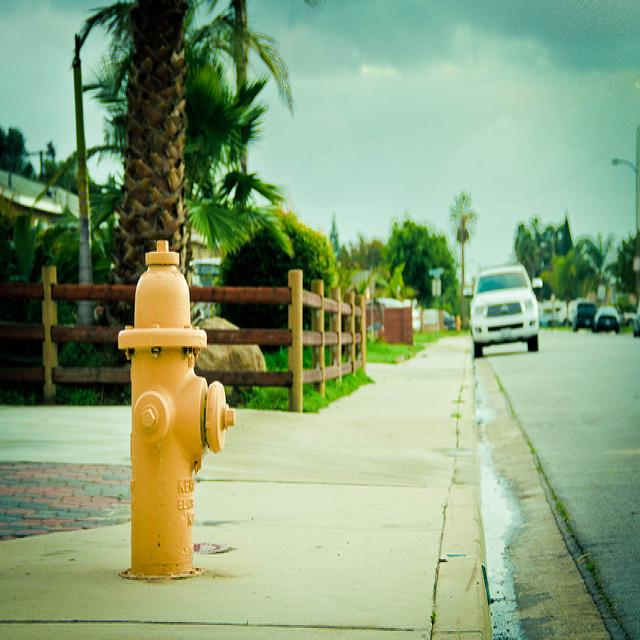Vehicle: (468, 265, 540, 356), (614, 298, 640, 334), (423, 308, 456, 333), (594, 306, 620, 334), (573, 302, 596, 331), (567, 300, 579, 326)
